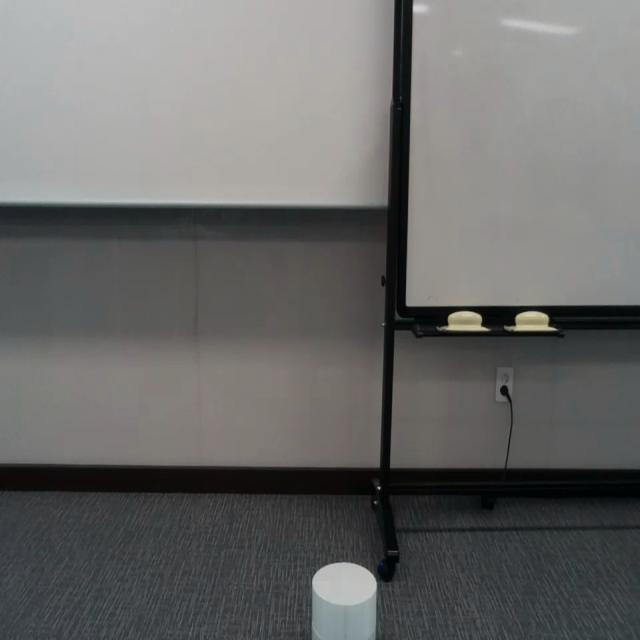cylinder: (312, 561, 378, 640)
